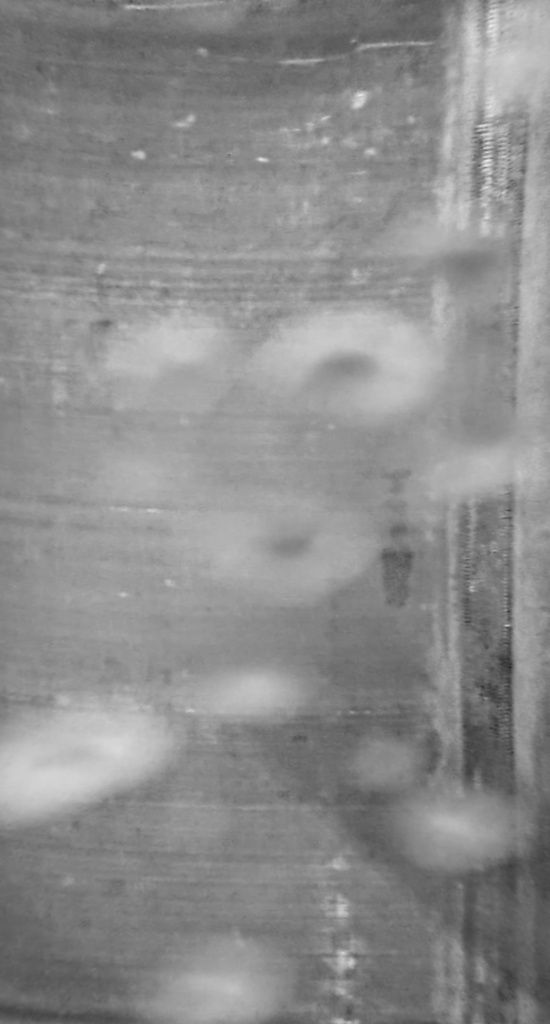splice: (442, 1, 539, 1022)
